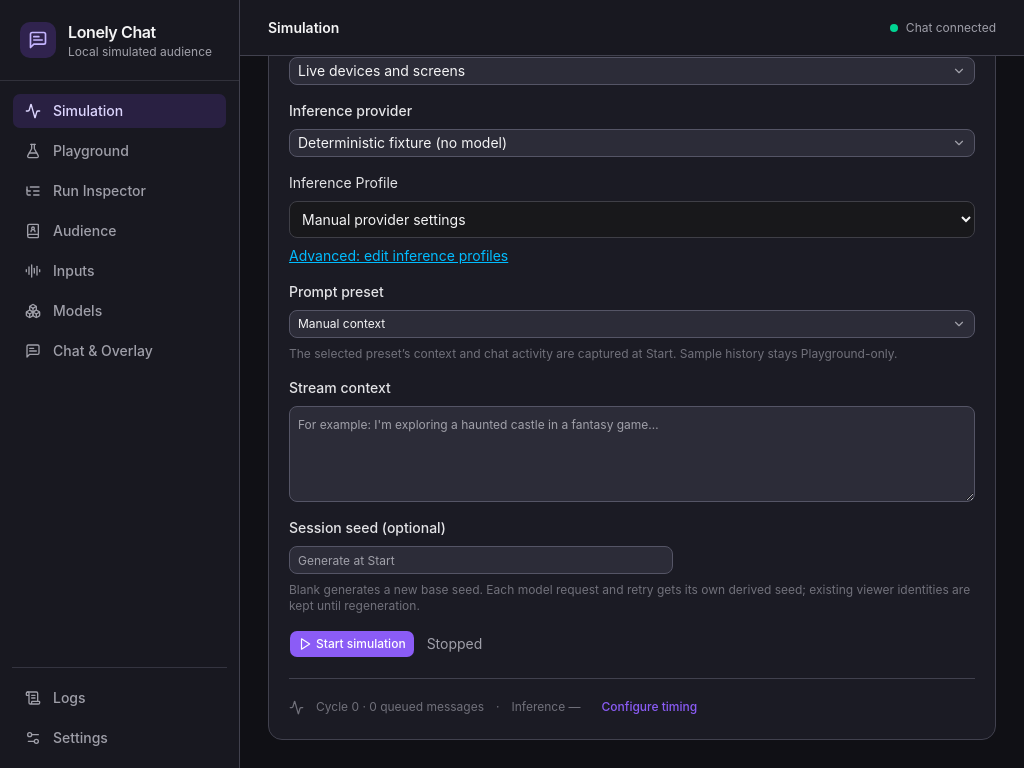
it: shows a rejected start error and remains ready to retry
(page scrolled)
Click the button "Start simulation" at (352, 644), box [289,630,415,658]
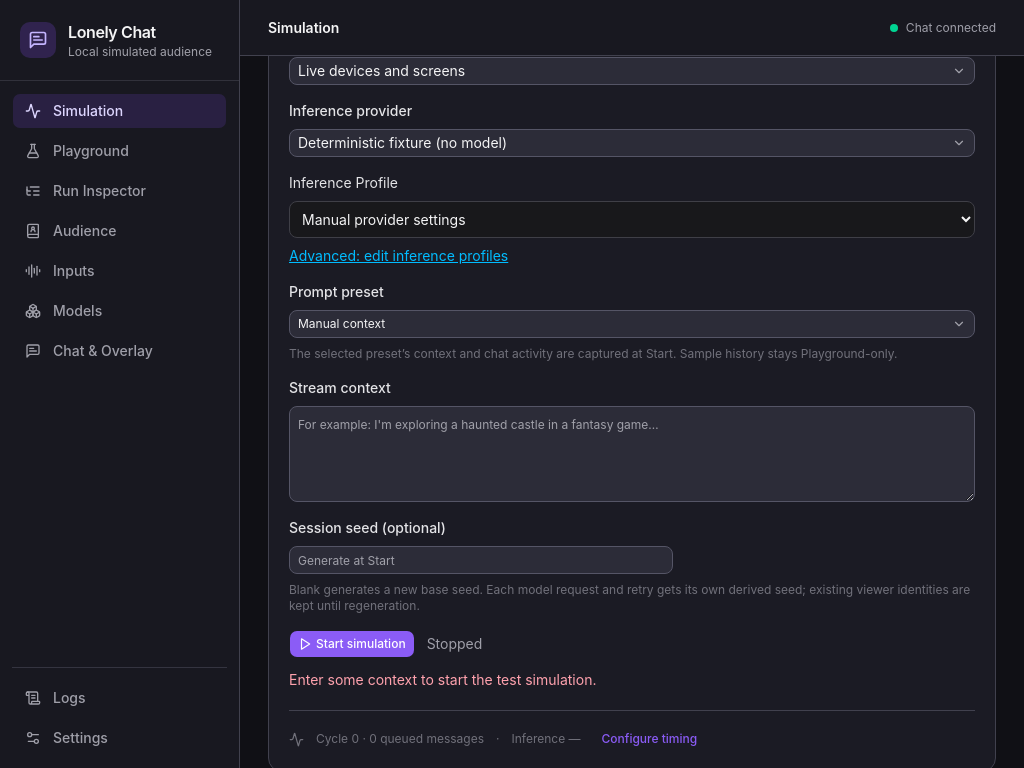
Now the message "Enter some context to start the test simulation." is shown, box [289,671,596,688]
